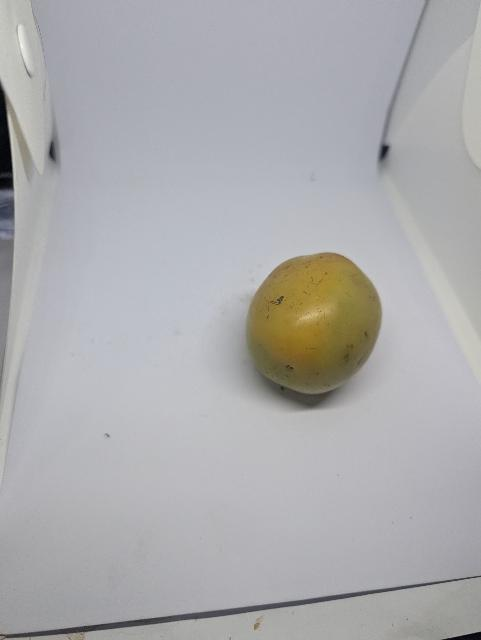breaker: (242, 247, 393, 398)
